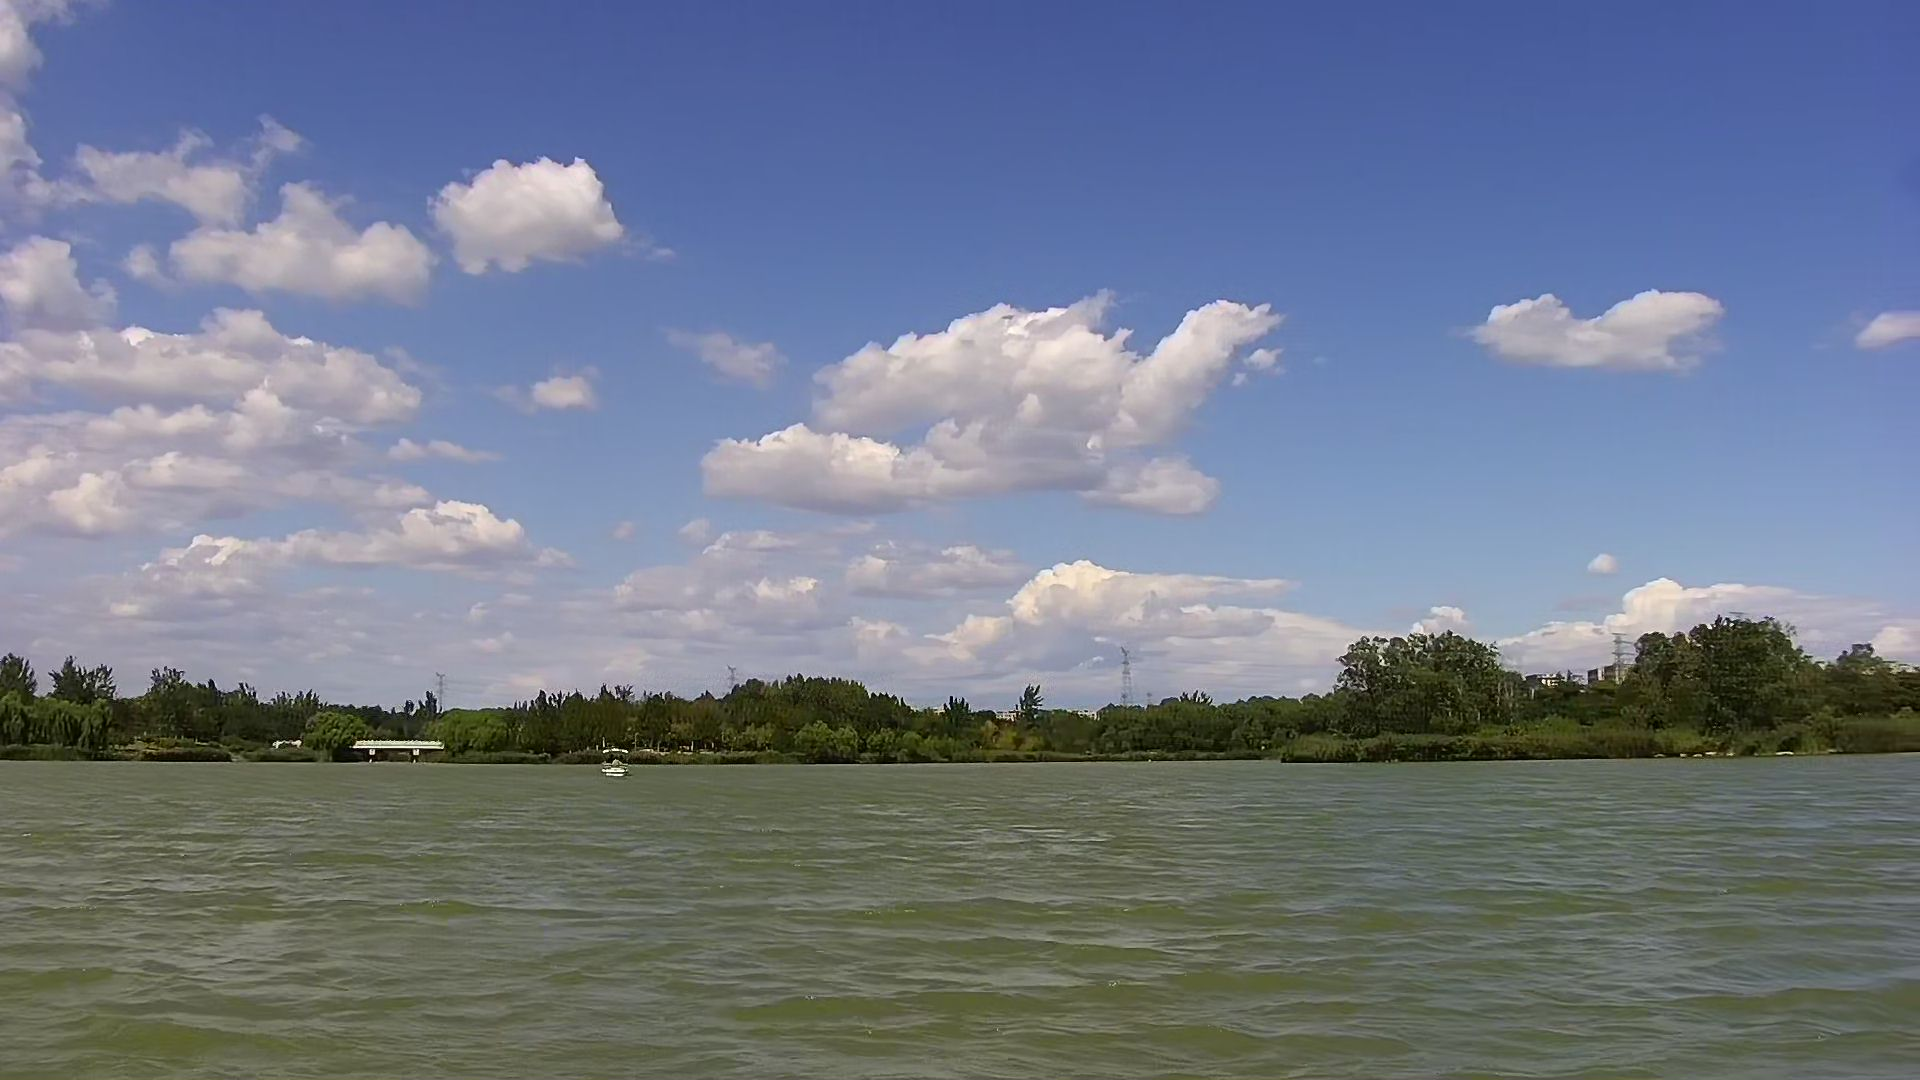boat: (595, 742, 636, 785)
bridge: (345, 728, 454, 762)
